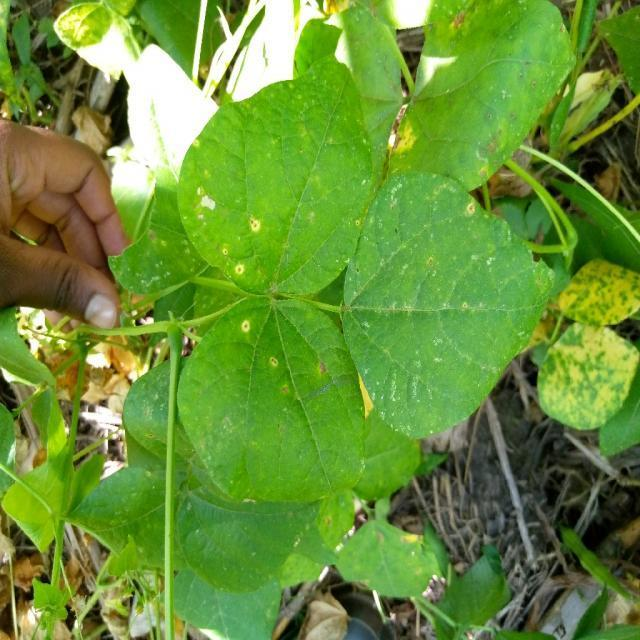embun tepung: (355, 184, 474, 415)
hawar: (110, 158, 299, 384), (460, 104, 531, 192), (445, 0, 493, 61)
mozaik: (175, 417, 309, 572)
